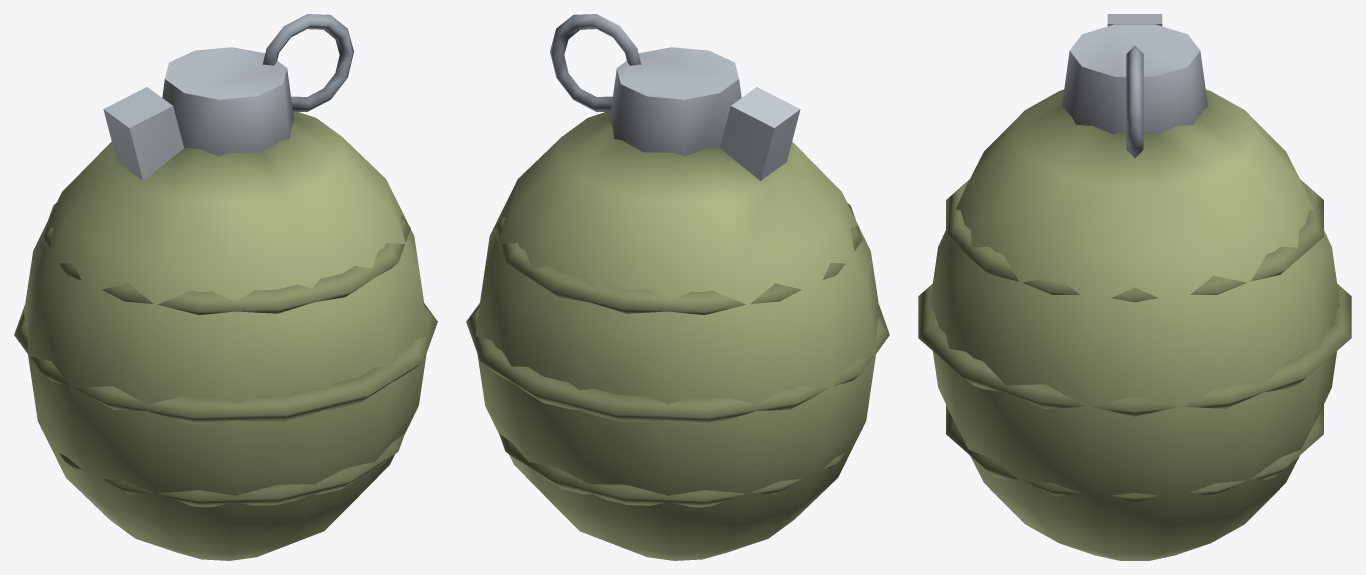
The model's file is Grenade.fbx.
The picture shows the model from 3 angles, left to right: view 1: azimuth 30°, elevation 25°; view 2: azimuth 150°, elevation 25°; view 3: azimuth 270°, elevation 25°; orthographic projection. The views are drawn at different scales.
Parts seen in each view (by area): view 1: grenade; view 2: grenade; view 3: grenade.
Boxes of the visible parts, x1,y1,x2,y2 form: grenade: (14,14,437,560); grenade: (466,14,889,560); grenade: (918,14,1351,560).
Bounding box in the file's own units: 0.3468 × 0.4607 × 0.3381.
